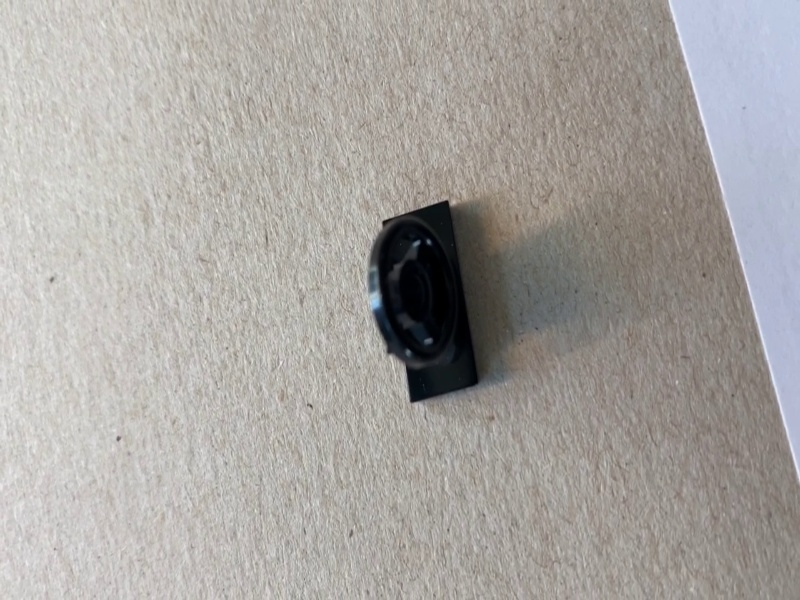steering wheel: (366, 198, 480, 406)
